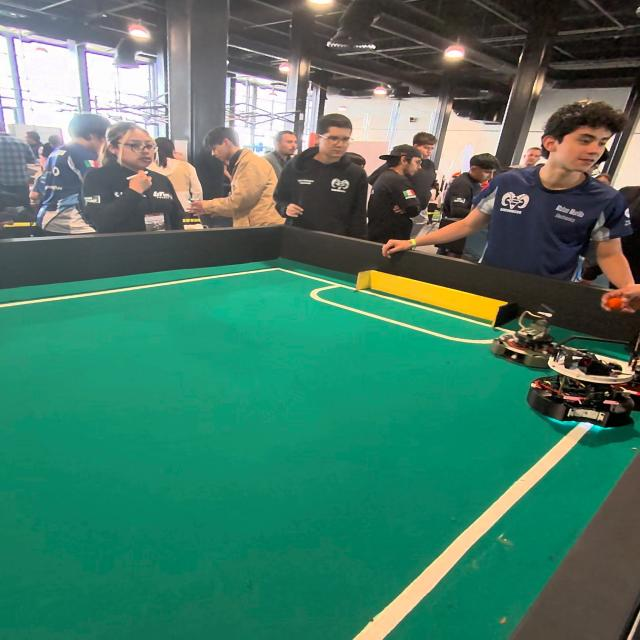Robot: (526, 326, 637, 435), (487, 309, 558, 367)
pelota: (598, 289, 626, 312)
